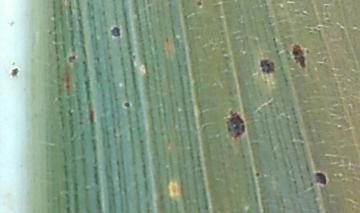tarspot: (226, 109, 246, 140), (290, 43, 308, 69), (259, 57, 275, 75), (313, 171, 327, 186), (108, 25, 122, 38), (9, 67, 21, 79), (122, 100, 132, 109), (67, 55, 77, 62), (253, 170, 261, 178), (196, 1, 203, 7)
